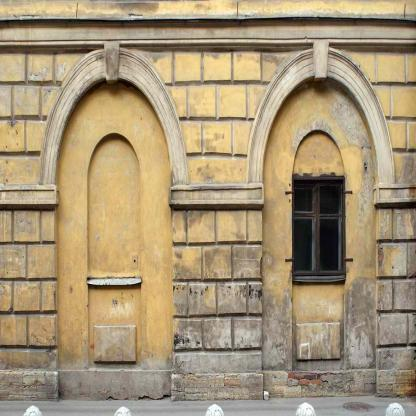Building Outline: (0, 0, 416, 402)
Cornice: (38, 43, 190, 187), (246, 42, 395, 184)
Facade: (0, 0, 416, 399)
Ground Floor: (0, 1, 416, 400)
Sill: (87, 278, 141, 286), (292, 276, 346, 282)
Window: (292, 177, 346, 275)
